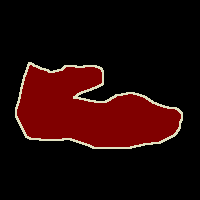shoe: (16, 62, 182, 148)
